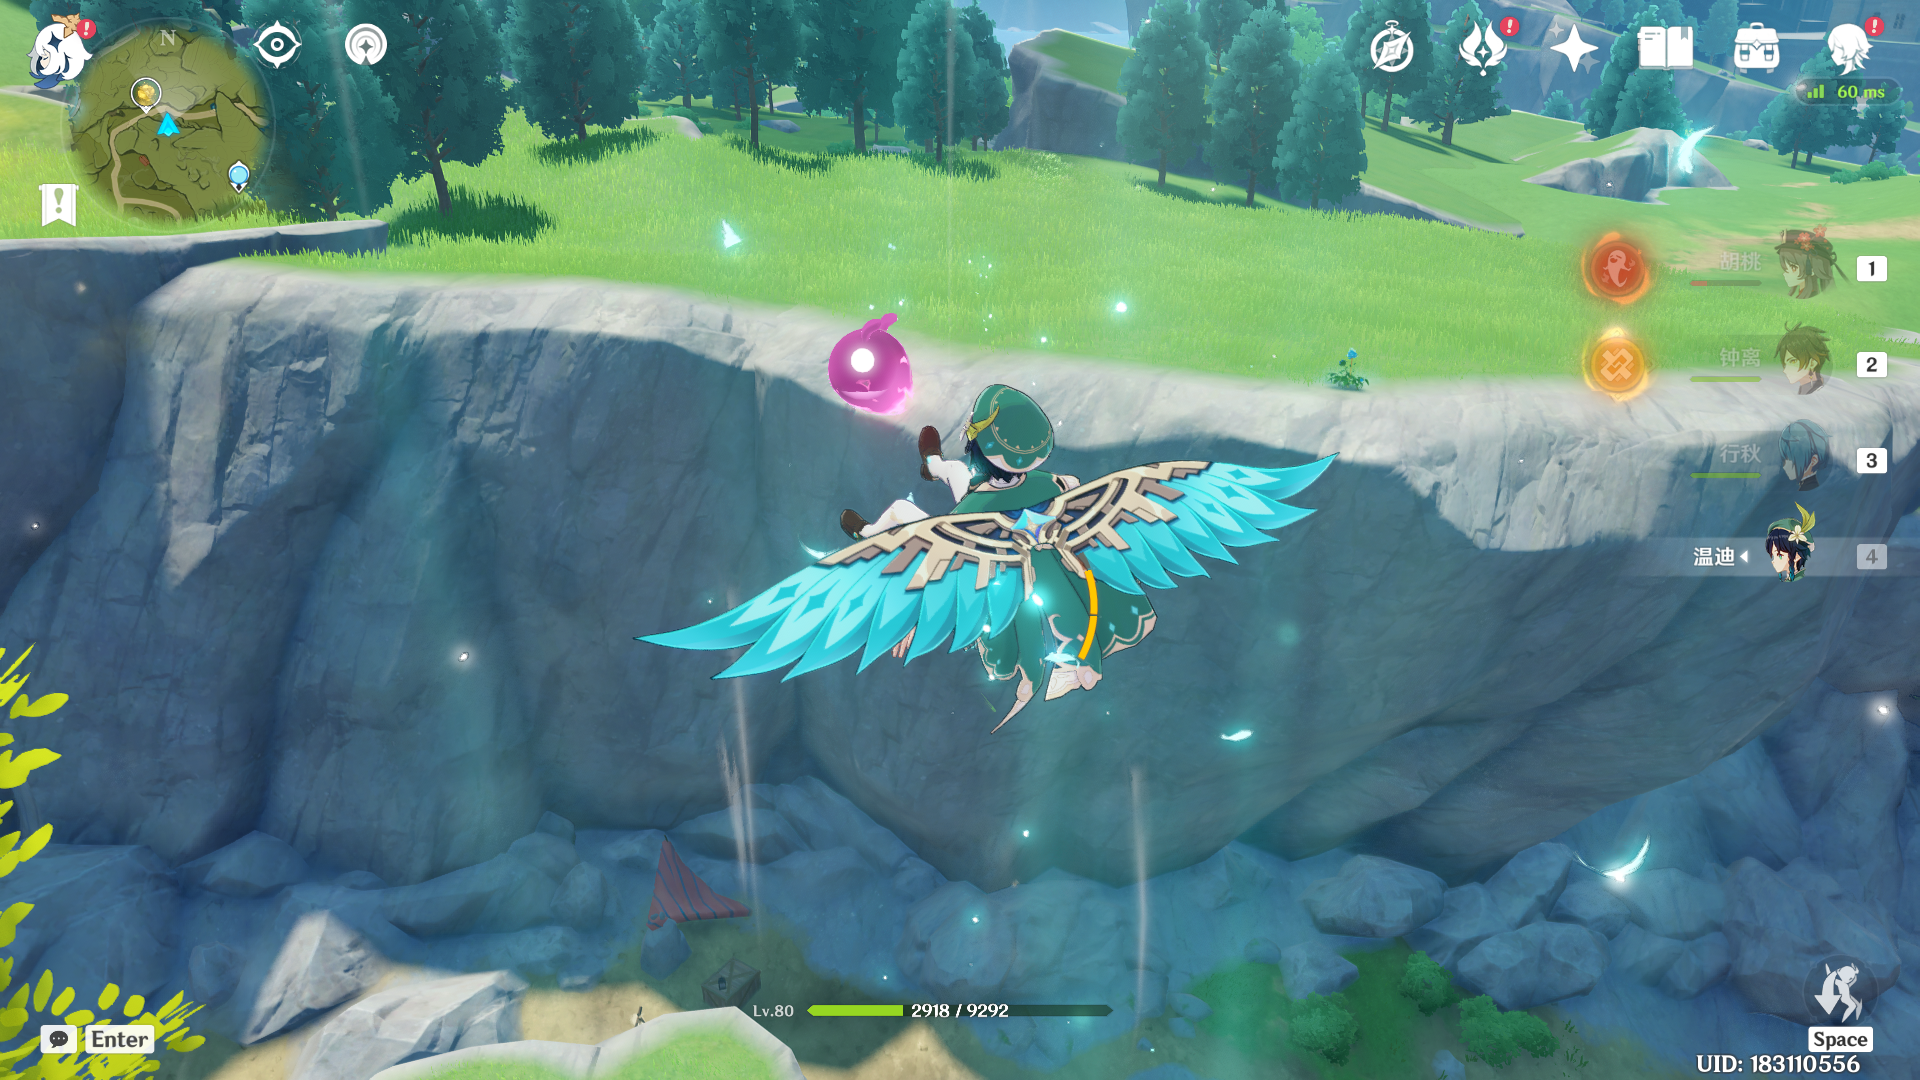character: (804, 332, 1170, 727)
